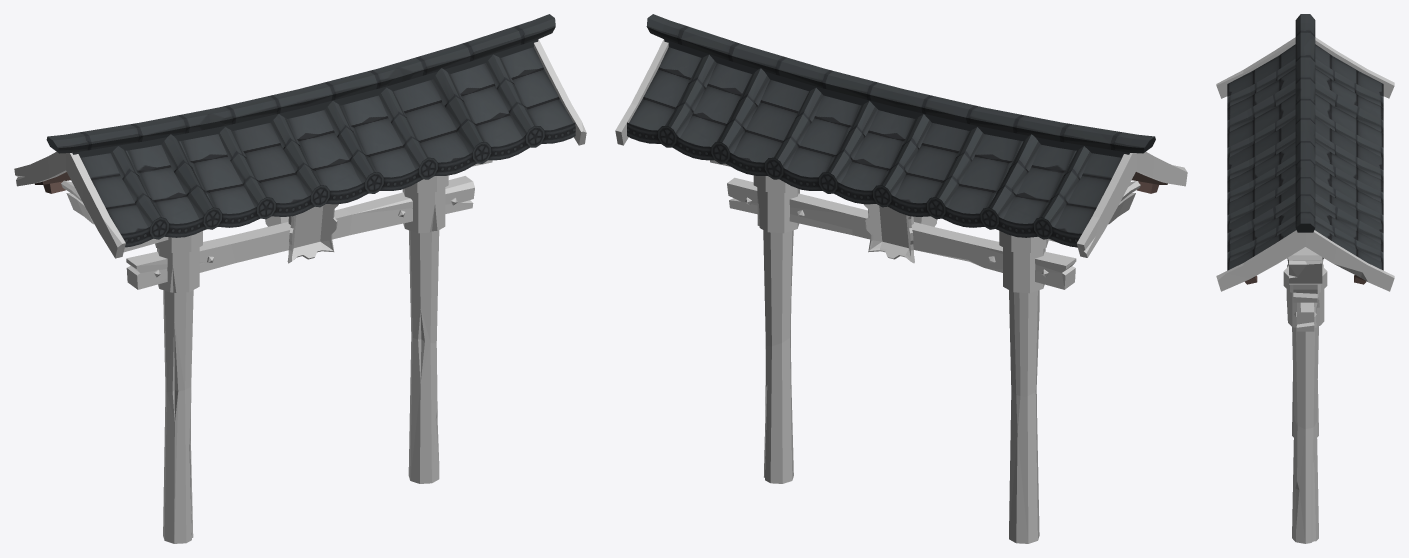
File: SM_Prop_Torii_Gate_02.fbx
3 renders of one model, left to right at view 1: azimuth 30°, elevation 25°; view 2: azimuth 150°, elevation 25°; view 3: azimuth 270°, elevation 25°, orthographic. The views are drawn at different scales.
Visible parts, largest first — view 1: SM_Prop_Torii_Gate_02; view 2: SM_Prop_Torii_Gate_02; view 3: SM_Prop_Torii_Gate_02.
Boxes of the visible parts, box(x1,y1,x2,y2) form: SM_Prop_Torii_Gate_02: box(14, 14, 586, 543); SM_Prop_Torii_Gate_02: box(615, 14, 1187, 543); SM_Prop_Torii_Gate_02: box(1216, 14, 1394, 543).
Size of the model in its own units: 620 by 507 by 223.
